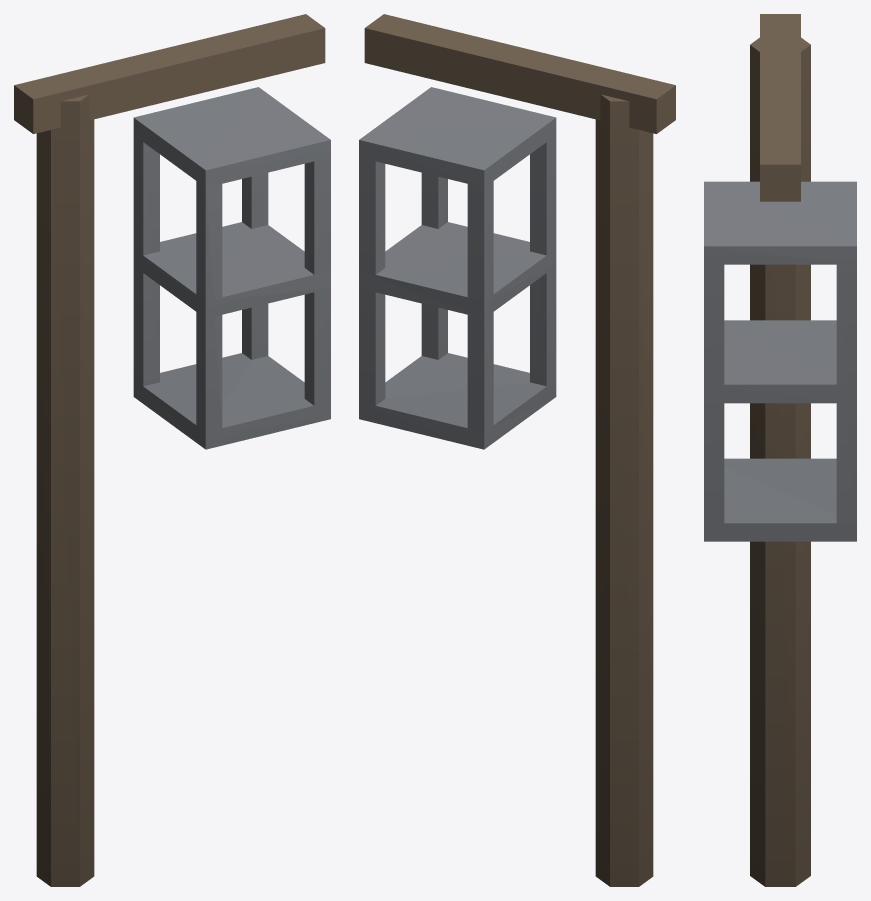
The model's file is gibbet.glb.
3 views of the same model, side by side, from view 1: azimuth 30°, elevation 25°; view 2: azimuth 150°, elevation 25°; view 3: azimuth 270°, elevation 25° (orthographic). The views are drawn at different scales.
Visible parts, largest first — view 1: gibbet; view 2: gibbet; view 3: gibbet.
Part boxes in pixels (<box>): gibbet: <box>14,14,330,886</box>; gibbet: <box>359,14,675,886</box>; gibbet: <box>704,14,856,886</box>.
Bounding box in the file's own units: 0.7 × 1.82 × 0.3.
